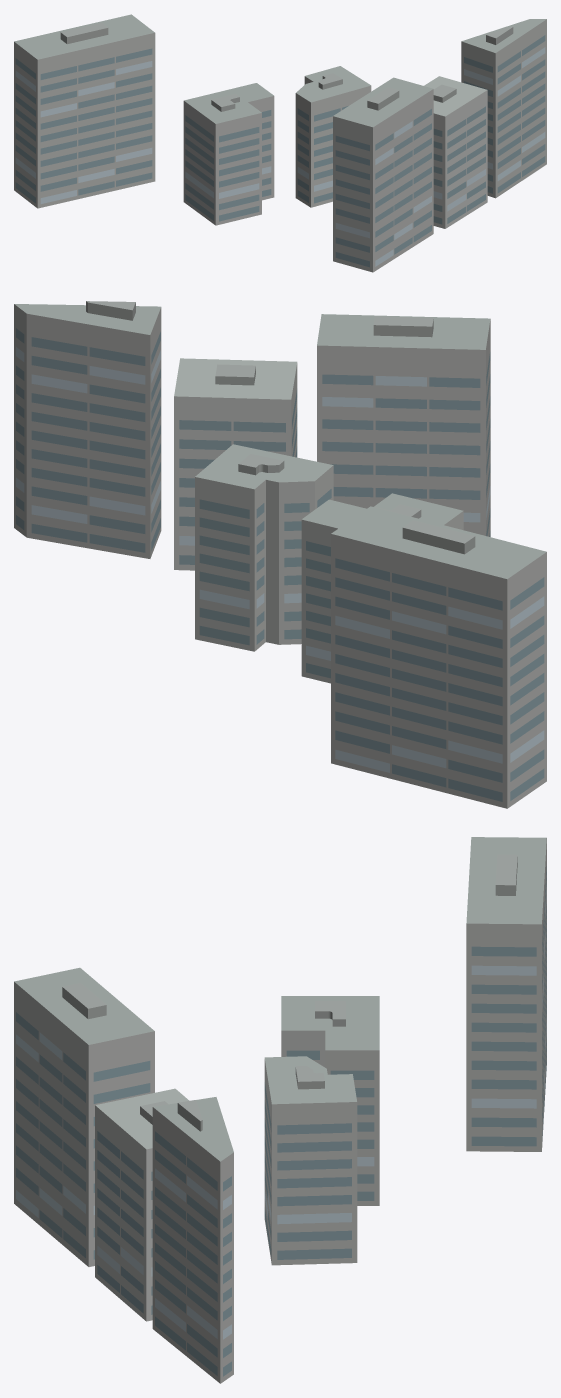
The model's file is apt-a15303003.glb.
The picture shows the model from 3 angles, top to bottom: view 1: azimuth 30°, elevation 25°; view 2: azimuth 150°, elevation 25°; view 3: azimuth 270°, elevation 25°; orthographic projection. The views are drawn at different scales.
Parts seen in each view (by area): view 1: apt-a15303003; view 2: apt-a15303003; view 3: apt-a15303003.
Boxes of the visible parts, x1=… form: apt-a15303003: x1=14, y1=14, x2=546, y2=272; apt-a15303003: x1=14, y1=301, x2=546, y2=808; apt-a15303003: x1=14, y1=837, x2=546, y2=1383.
Bounding box in the file's own units: 118 × 41 × 83.05.
